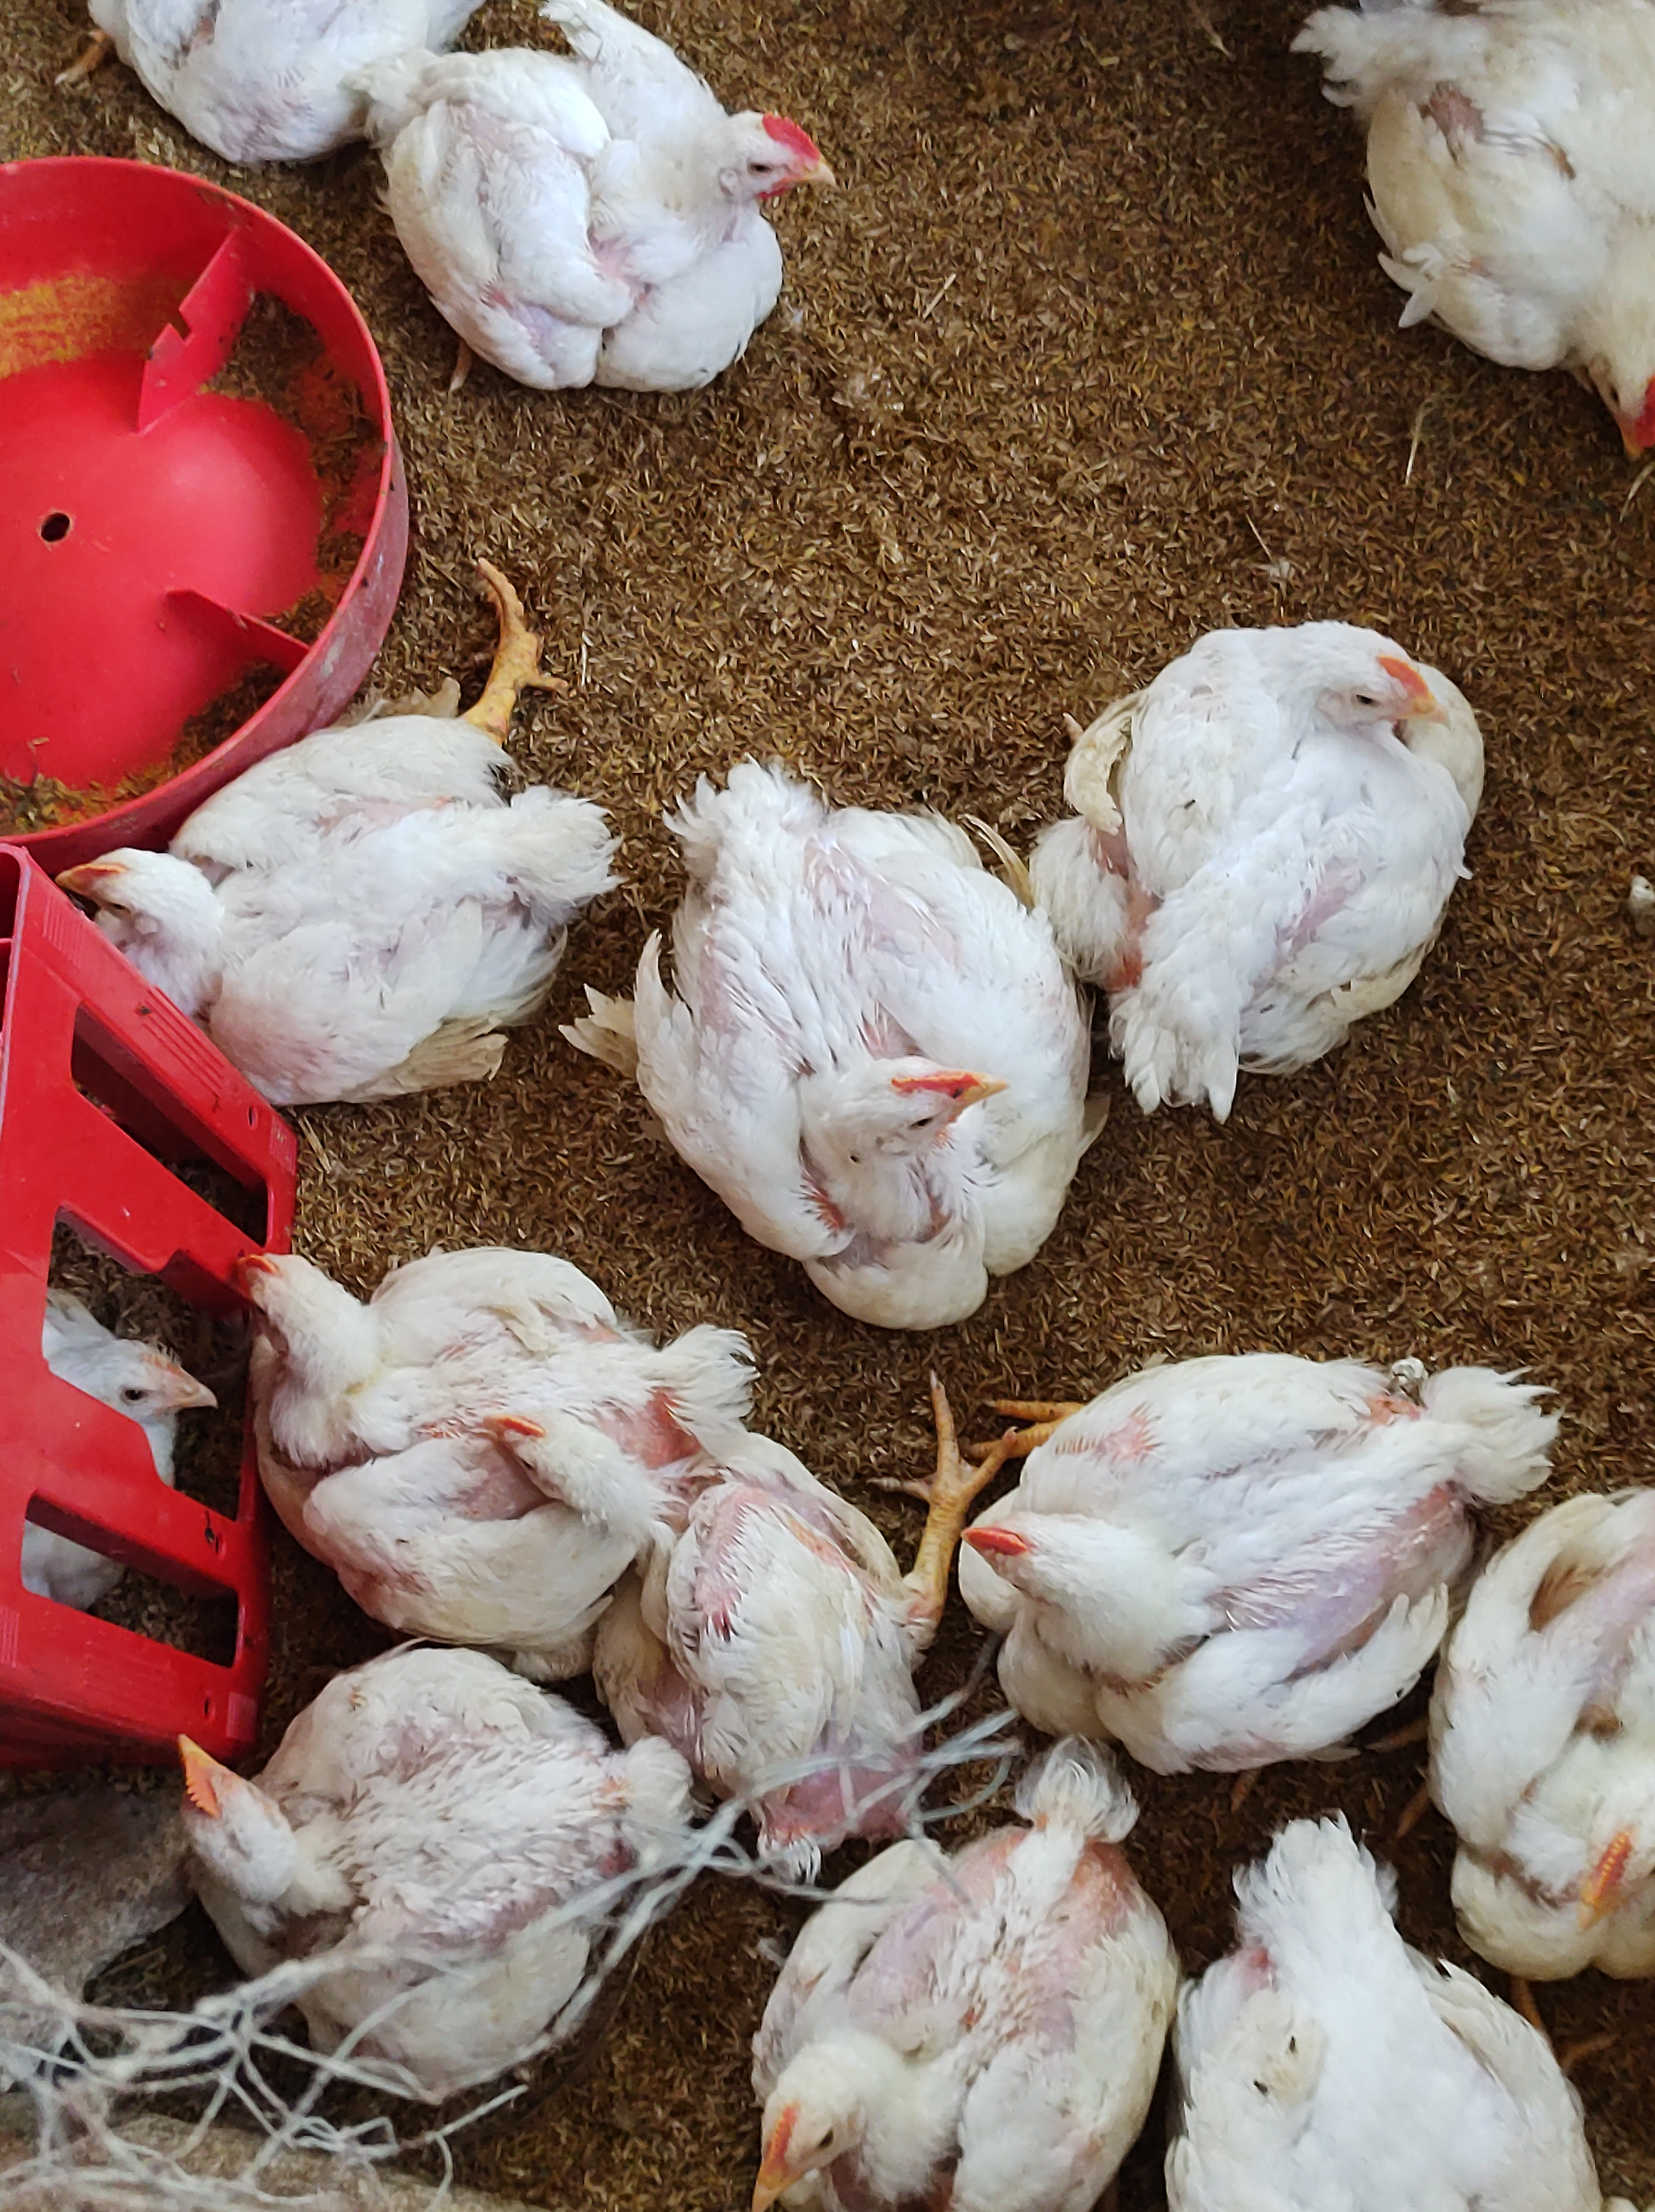Pollos: (66, 548, 638, 1125), (560, 756, 1114, 1320), (52, 1678, 668, 2076), (1085, 602, 1516, 1136), (196, 1212, 681, 1650), (497, 1363, 901, 1868), (974, 1358, 1486, 1737), (754, 1765, 1177, 2212), (429, 0, 841, 442), (1172, 1805, 1589, 2212), (1318, 0, 1655, 461), (1399, 1469, 1655, 1960), (42, 0, 518, 228), (17, 1261, 250, 1532)
